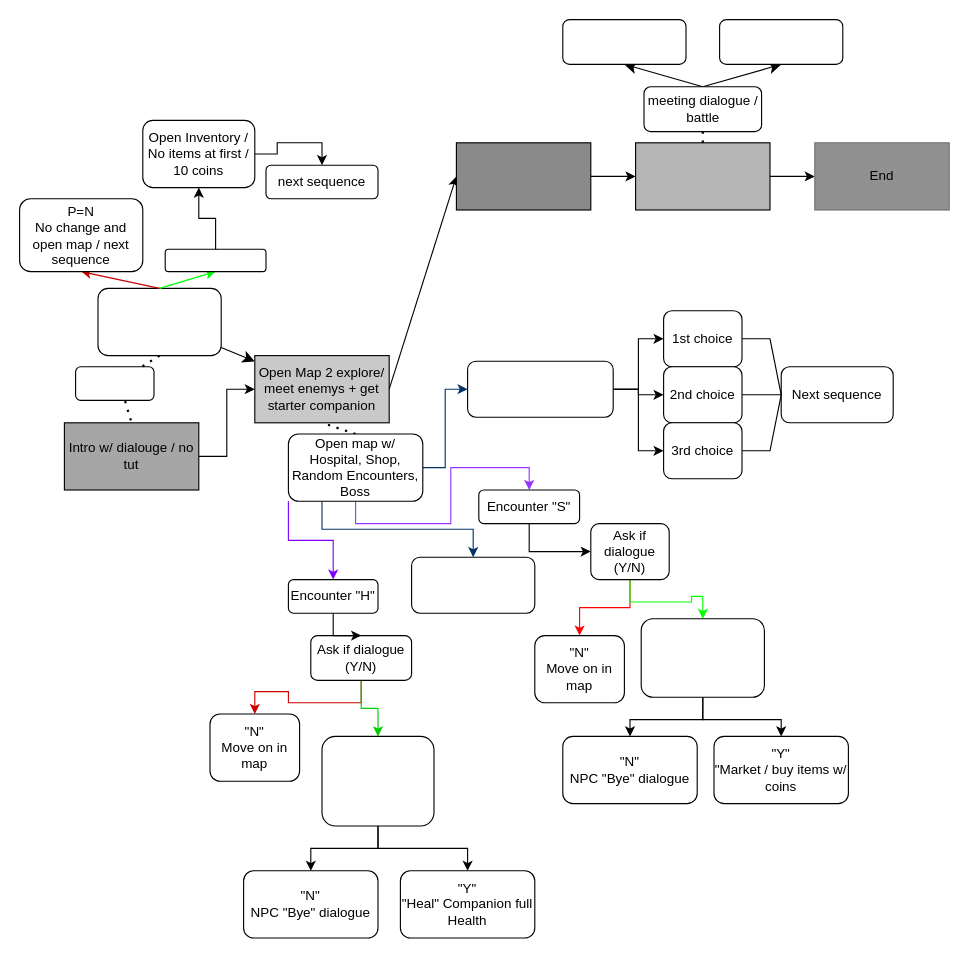
The diagram is 969 pixels wide and 958 high, and some of its shapes have lost their labels. Here are the shapes that lost their labels. From the top down, the box of each, then its label:
(562, 18, 686, 64): P = defeat boss --> next sequence
(718, 18, 843, 64): P = dead --> Start Over
(455, 142, 591, 210): After getting more companions they meet the boss
(634, 142, 770, 210): Meet the boss / defeat it
(164, 248, 266, 272): P=Y
(97, 287, 221, 356): Ask to if P want to open inventory (Y/N)
(74, 366, 154, 400): Print Intro
(466, 360, 613, 417): (1)Starter companion
(410, 556, 535, 613): (4)Encounter "B"
(640, 618, 764, 697): "Y" NPC(Merchant) dialogue (Y/N) 4 shop
(321, 735, 434, 826): "Y" NPC(Nurse) dialogue (Y/N) 4 "heal"
